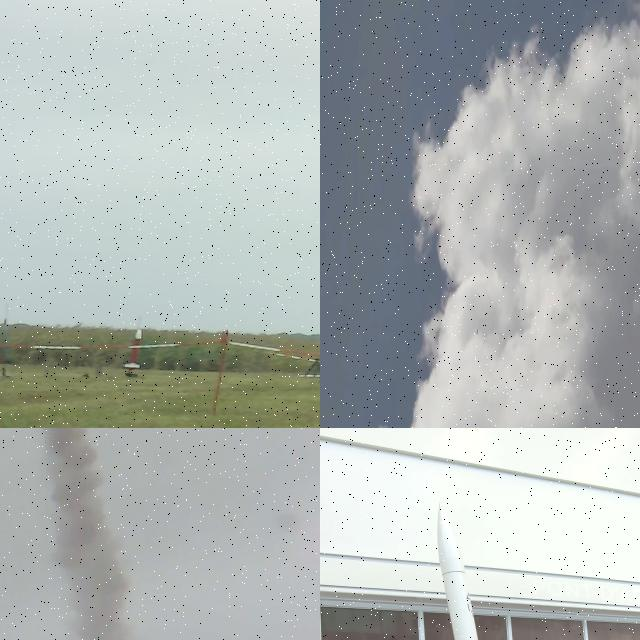Rocket: (437, 501, 478, 640), (123, 328, 144, 368), (476, 328, 478, 337)
